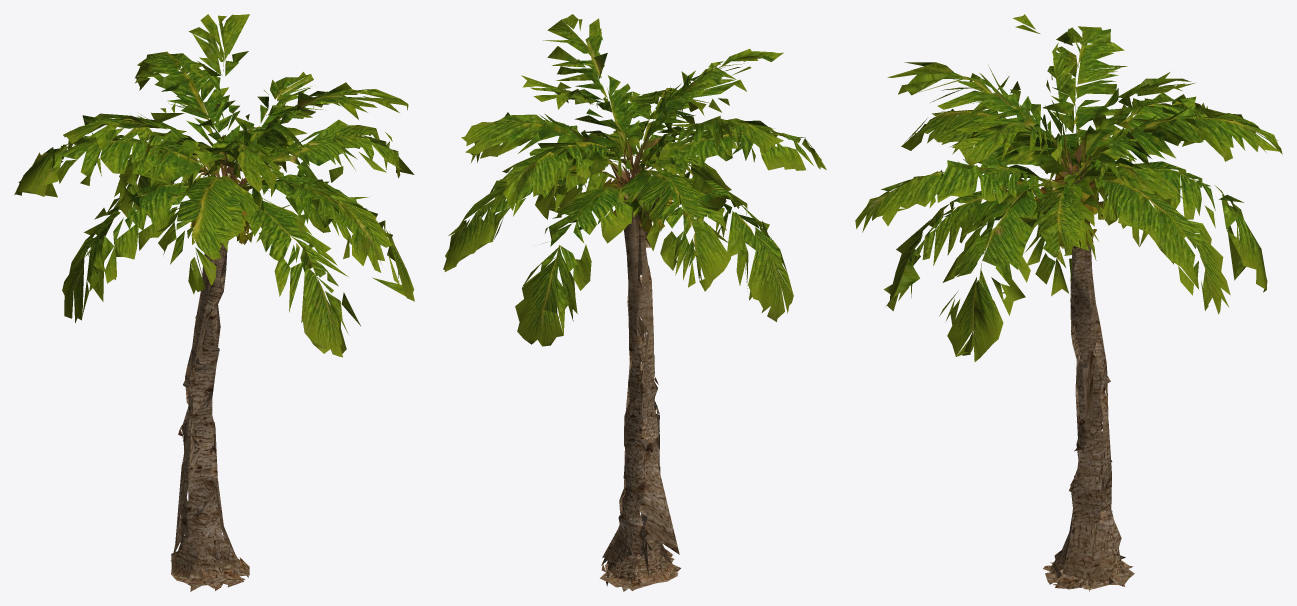
File: coconut-palm-v1.glb
The picture shows the model from 3 angles, left to right: view 1: azimuth 30°, elevation 25°; view 2: azimuth 150°, elevation 25°; view 3: azimuth 270°, elevation 25°; orthographic projection. The views are drawn at different scales.
Visible parts, largest first — view 1: Coconut_palm, Coconut_palm_distant; view 2: Coconut_palm, Coconut_palm_distant; view 3: Coconut_palm, Coconut_palm_distant.
Boxes of the visible parts, x1,y1,x2,y2 form: Coconut_palm: (14, 14, 414, 591); Coconut_palm_distant: (22, 16, 413, 584); Coconut_palm: (443, 14, 826, 590); Coconut_palm_distant: (460, 21, 819, 591); Coconut_palm: (855, 14, 1282, 589); Coconut_palm_distant: (877, 29, 1278, 591).
Size of the model in its own units: 0.6807 by 1.01 by 0.742.
1 material, 1 textured.
